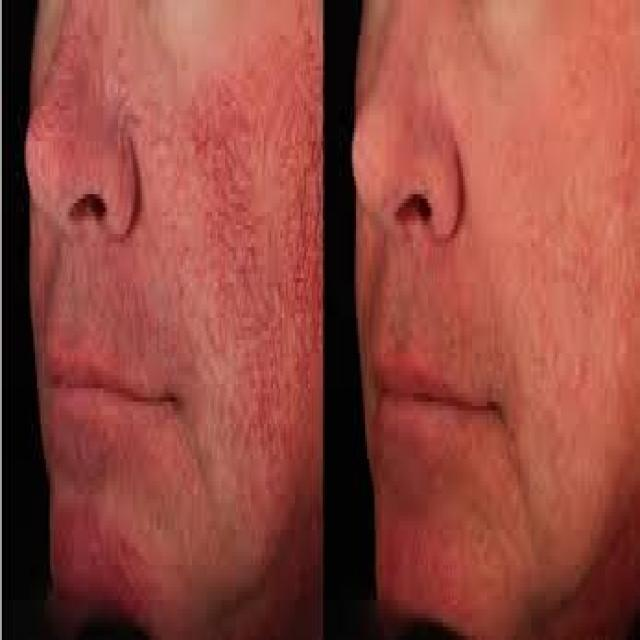Rosacea: (192, 32, 318, 471), (48, 498, 158, 620), (28, 9, 120, 154), (384, 19, 456, 186), (380, 507, 481, 621)
